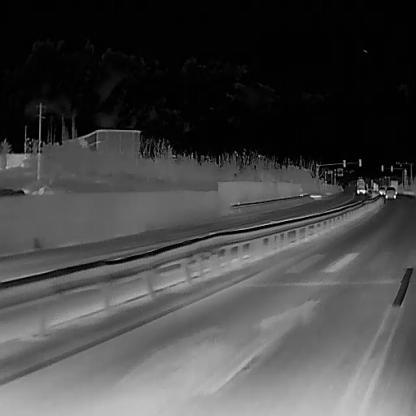car: (384, 186, 396, 198), (387, 179, 397, 193), (356, 178, 365, 193), (377, 185, 385, 194), (372, 181, 378, 191)
